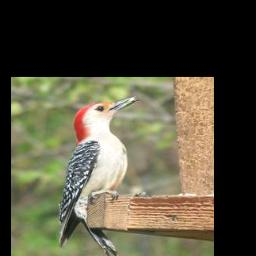Woodpecker: (59, 94, 142, 256)
